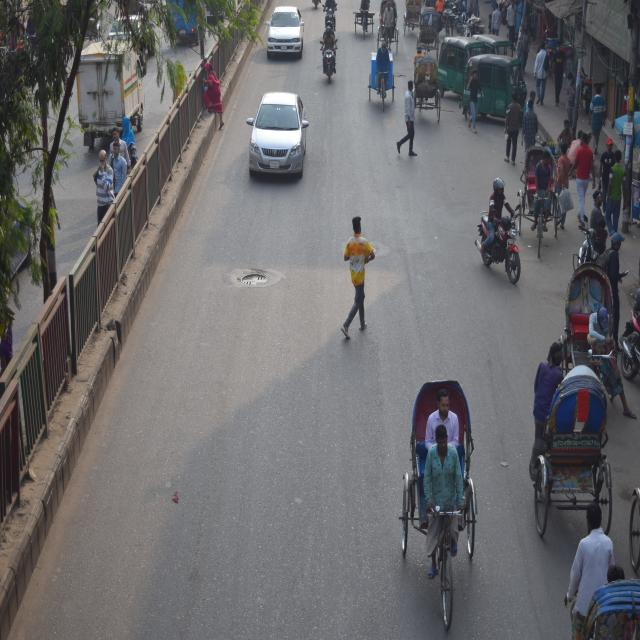car: (242, 80, 309, 187), (263, 1, 304, 69)
motorbike: (474, 185, 530, 287), (576, 194, 610, 283), (618, 286, 640, 389), (316, 21, 339, 83), (455, 1, 476, 35)
pickup-van: (74, 29, 149, 156)
